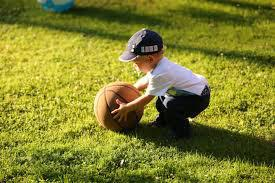child: (119, 23, 215, 137)
